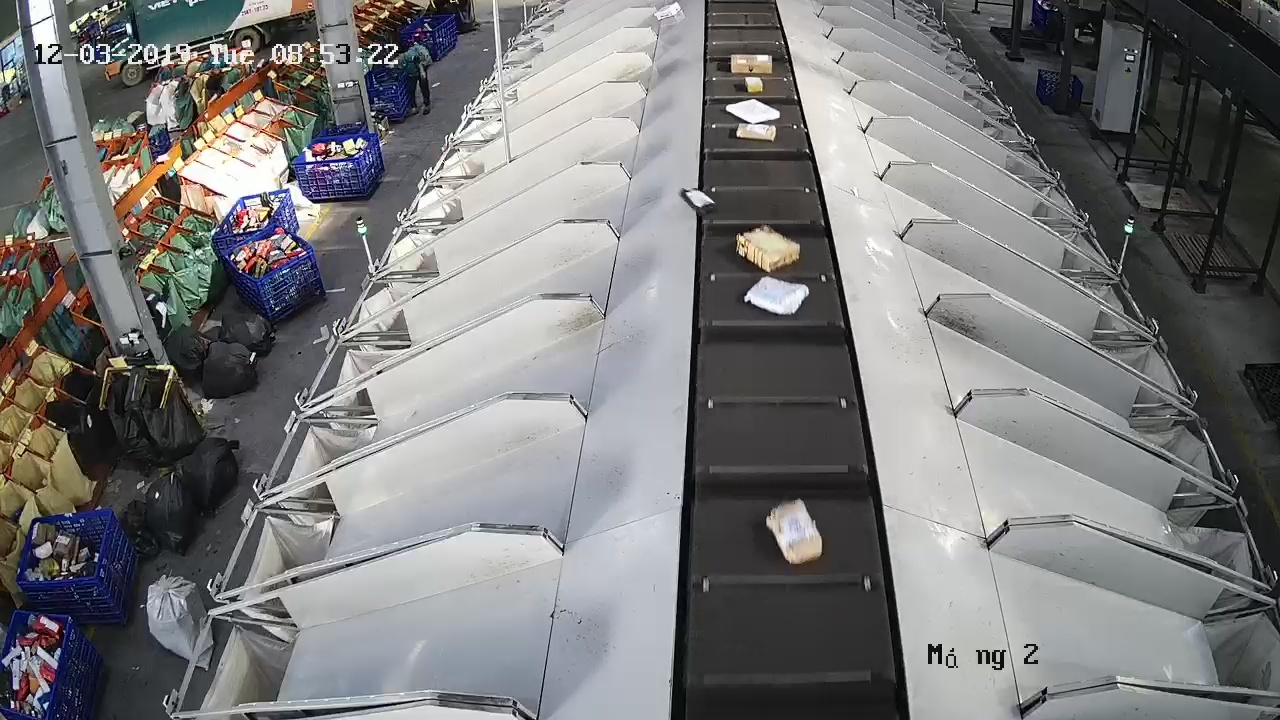parcel: (764, 496, 825, 566), (733, 222, 802, 274), (741, 275, 811, 317), (677, 185, 717, 217)
